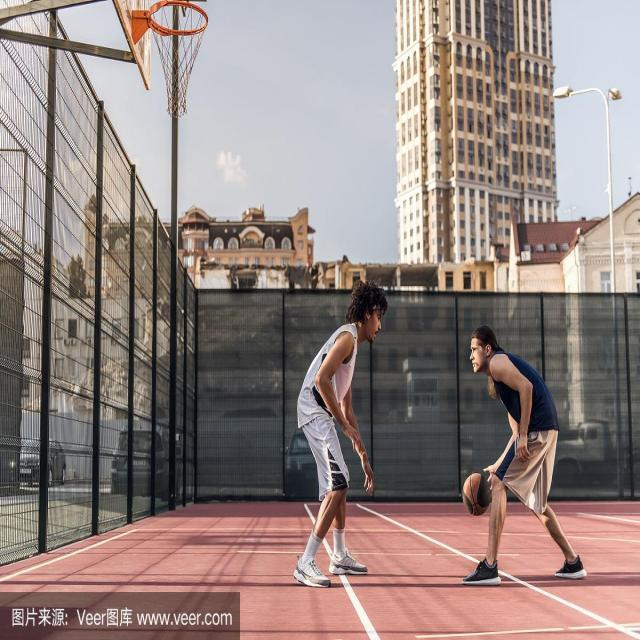rim: (463, 473, 492, 515)
